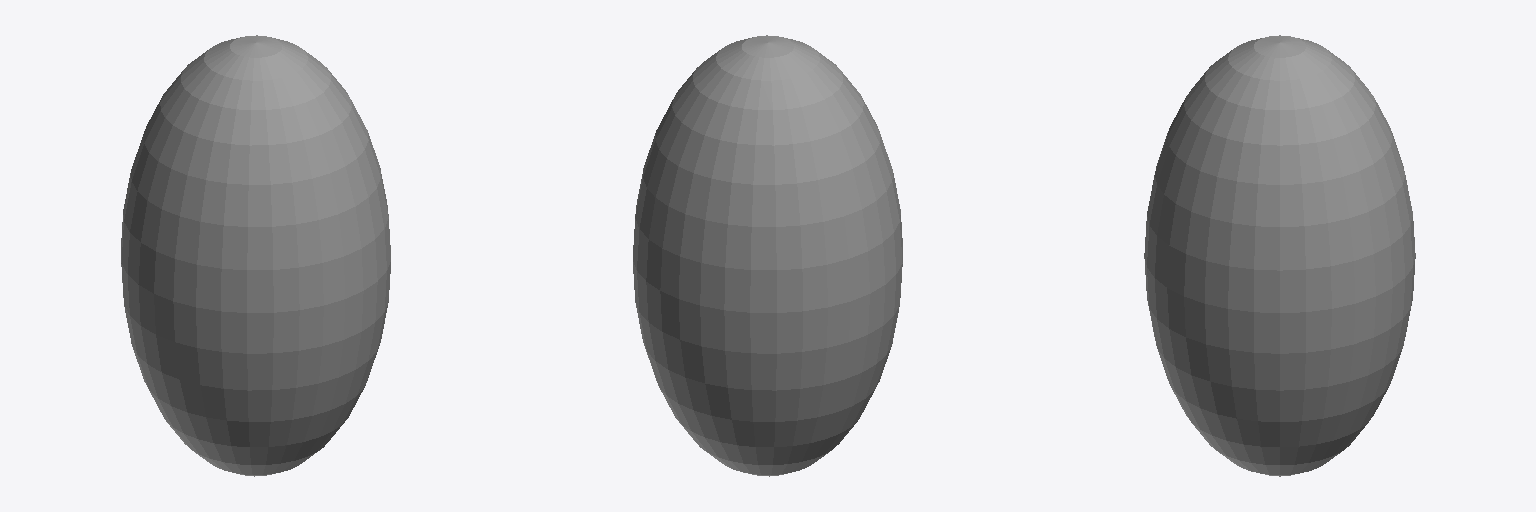
File: huevoNuevo.obj
3 renders of one model, left to right at view 1: azimuth 30°, elevation 25°; view 2: azimuth 150°, elevation 25°; view 3: azimuth 270°, elevation 25°, orthographic.
Parts seen in each view (by area): view 1: Sphere; view 2: Sphere; view 3: Sphere.
Boxes of the visible parts, <box> form: Sphere: <box>121,35,390,476</box>; Sphere: <box>633,35,902,476</box>; Sphere: <box>1144,35,1415,476</box>.
Bounding box in the file's own units: 2 × 3.47 × 2.